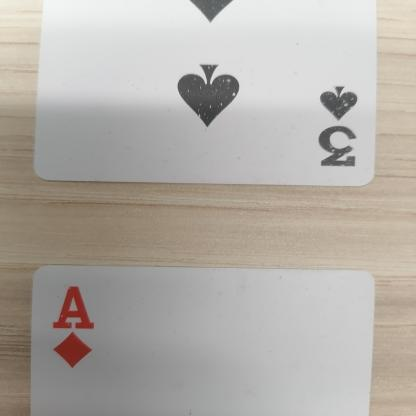3S: (300, 85, 368, 179)
AD: (44, 268, 107, 374)
